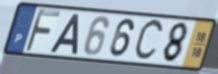6: (108, 17, 136, 59), (83, 15, 110, 57)
8: (160, 21, 191, 65)
A: (48, 13, 80, 55)
C: (132, 17, 166, 64)
F: (23, 7, 63, 54)
